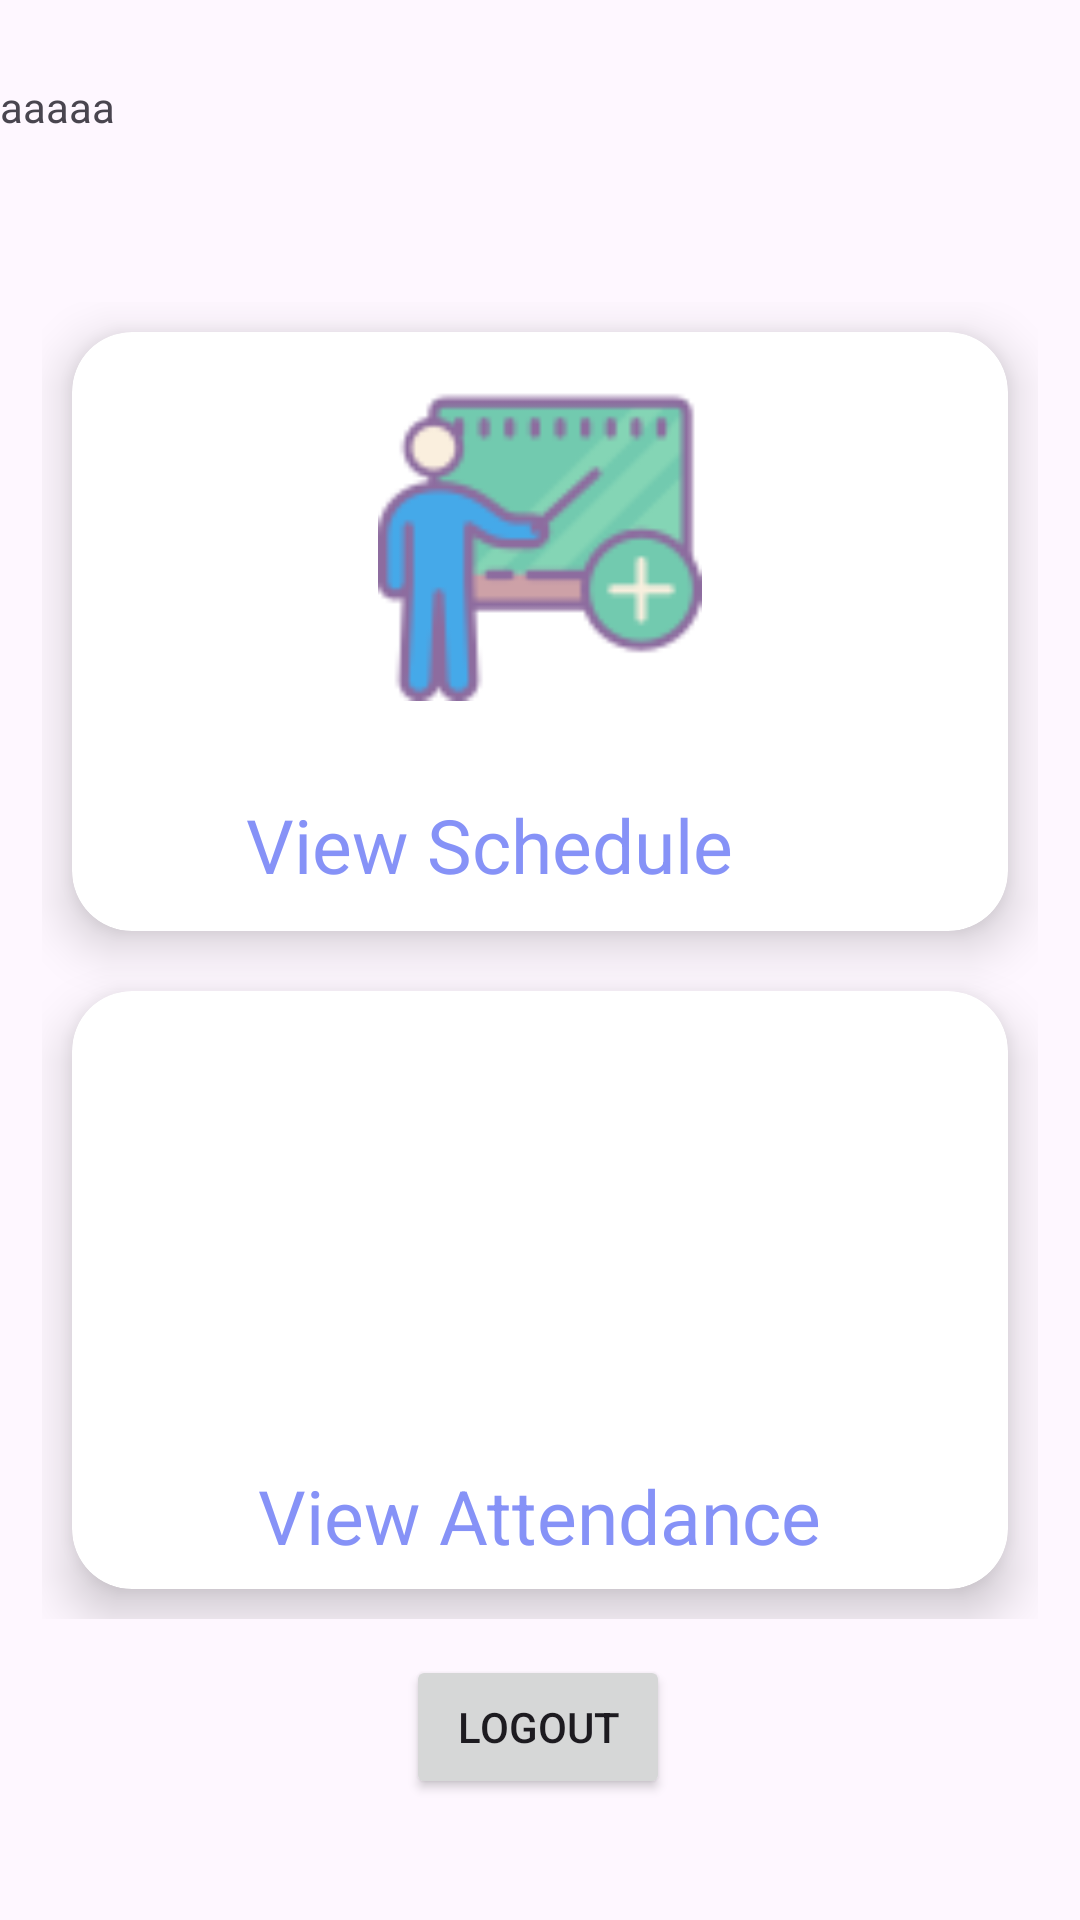

Where icons sit on this 1080 × 1920 app screen, as {"left": x1, "top": y1, "right": x2, "bottom": y2}:
add room: {"left": 378, "top": 394, "right": 702, "bottom": 701}
